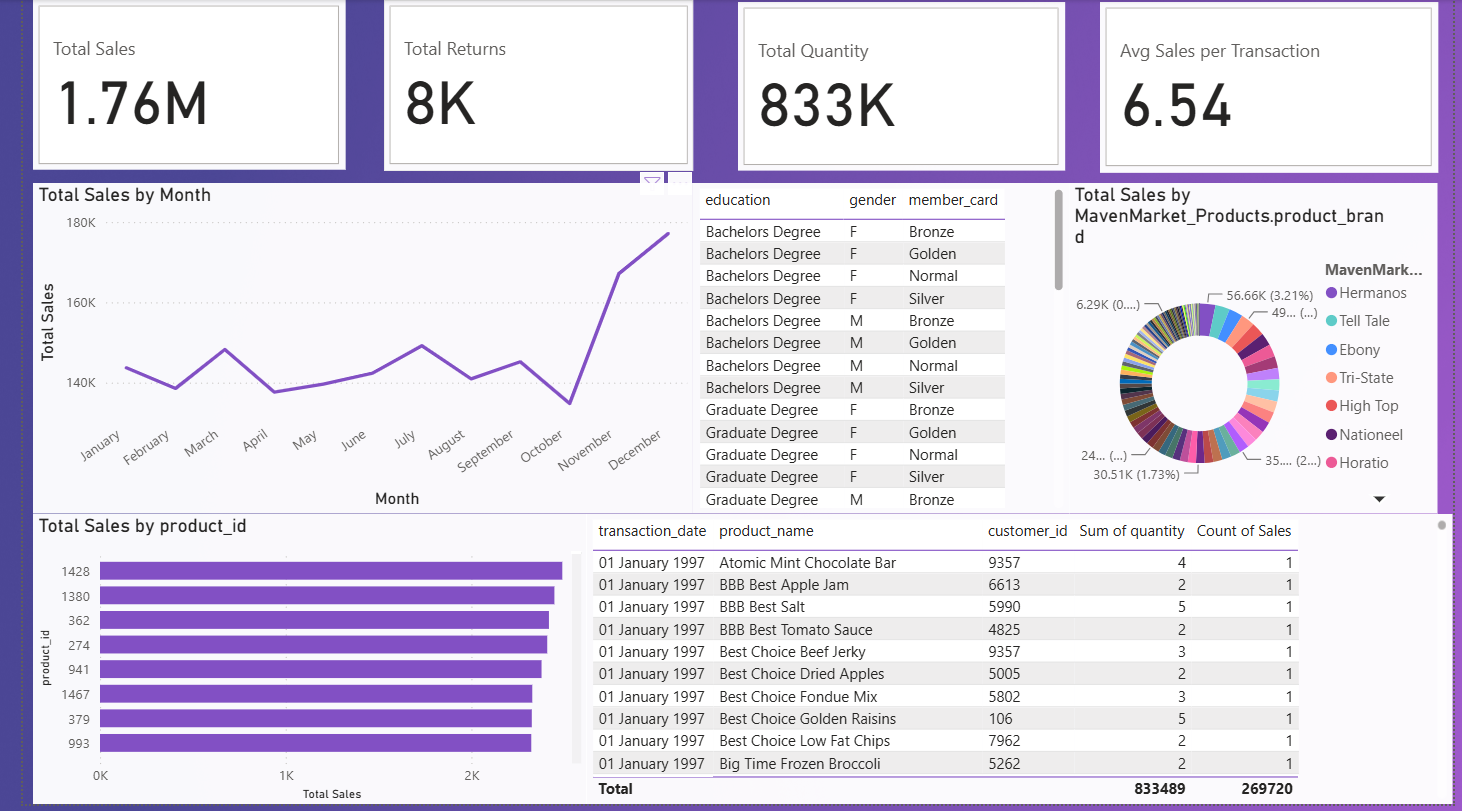

The dashboard page shown, as its layout file describes it:
{"tool":"powerbi","page":{"name":"Page 1","canvas":[1280,720],"ordinal":0},"visuals":[{"type":"cardVisual","fields":{"Data":["All_Transactions.Total Sales"]},"box":[9.1,0,279.9,152.1],"z":0},{"type":"cardVisual","fields":{"Data":["All_Transactions.Total Quantity"]},"box":[640,1.4,292.9,151.4],"z":1000},{"type":"cardVisual","fields":{"Data":["MavenMarket_Returns_1997-1998.Total Returns"]},"box":[322.9,0,277.1,152.9],"z":2000},{"type":"cardVisual","fields":{"Data":["All_Transactions.Avg Sales per Transaction"]},"box":[964.3,1.4,302.9,152.9],"z":3000},{"type":"lineChart","fields":{"Category":["MavenMarket_Calendar.date.Variation.Date Hierarchy.Month"],"Y":["All_Transactions.Total Sales"]},"box":[8.6,164.3,591.4,295.7],"z":4000},{"type":"barChart","fields":{"Category":["All_Transactions.product_id"],"Y":["All_Transactions.Total Sales"]},"box":[8.6,460,495.7,261.4],"z":5000},{"type":"donutChart","fields":{"Category":["All_Transactions.MavenMarket_Products.product_brand"],"Y":["All_Transactions.Total Sales"]},"box":[937.1,164.3,330,295.7],"z":6000},{"type":"tableEx","fields":{"Values":["All_Transactions.transaction_date","MavenMarket_Products.product_name","All_Transactions.customer_id","Sum(All_Transactions.quantity)","CountNonNull(All_Transactions.Sales)"]},"box":[504.3,460,775.7,260],"z":7000},{"type":"tableEx","fields":{"Values":["MavenMarket_Customers.education","MavenMarket_Customers.gender","MavenMarket_Customers.member_card"]},"box":[600,164.3,337.1,295.7],"z":8000}]}

Visuals, with their boxes in screenshot pixels (x1, y1, x2, y2), scaled from the page's 1280x720 canvas onto the 1462x811 screenshot:
cardVisual - All_Transactions.Total Sales: 10,0,330,171
cardVisual - All_Transactions.Total Quantity: 731,2,1066,172
cardVisual - MavenMarket_Returns_1997-1998.Total Returns: 369,0,685,172
cardVisual - All_Transactions.Avg Sales per Transaction: 1101,2,1447,174
lineChart - MavenMarket_Calendar.date.Variation.Date Hierarchy.Month x All_Transactions.Total Sales: 10,185,685,518
barChart - All_Transactions.product_id x All_Transactions.Total Sales: 10,518,576,810
donutChart - All_Transactions.MavenMarket_Products.product_brand x All_Transactions.Total Sales: 1070,185,1447,518
tableEx - All_Transactions.transaction_date x MavenMarket_Products.product_name: 576,518,1461,810
tableEx - MavenMarket_Customers.education x MavenMarket_Customers.gender: 685,185,1070,518
